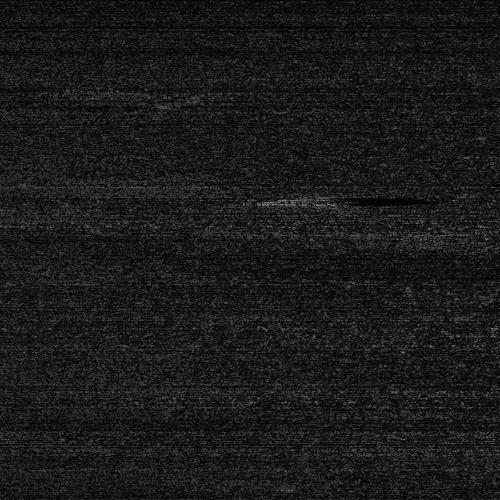rock: (273, 195, 304, 200)
shadow: (289, 195, 384, 200)
